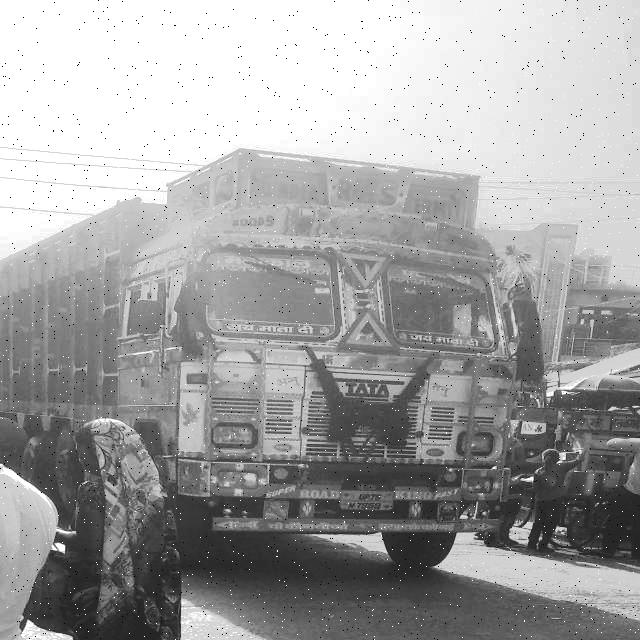HCV: (130, 183, 546, 571)
